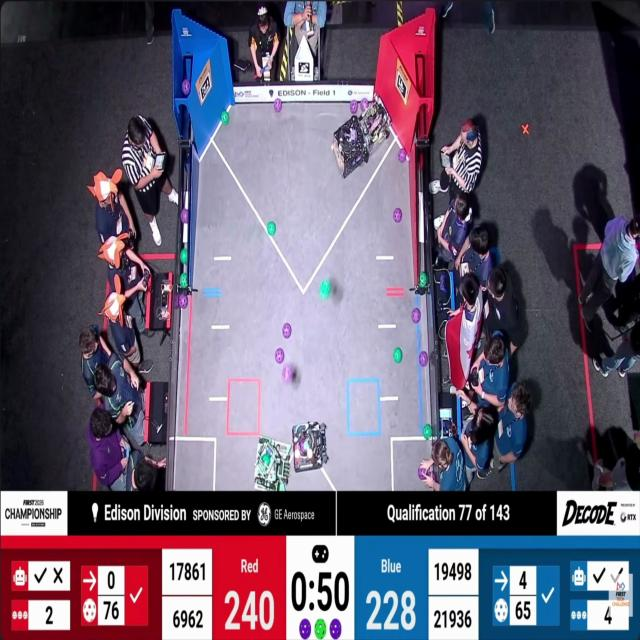artifact_green: (315, 619, 326, 639), (320, 280, 331, 299), (178, 294, 188, 308), (180, 248, 188, 265), (180, 273, 188, 288), (181, 208, 189, 223), (423, 424, 431, 439), (394, 348, 402, 363), (221, 111, 229, 125), (268, 222, 276, 236), (420, 272, 427, 287), (262, 454, 270, 465)
artifact_purple: (299, 619, 311, 639), (330, 619, 341, 639), (418, 467, 432, 480), (283, 365, 292, 383), (282, 322, 292, 338), (275, 348, 284, 364), (182, 79, 190, 96), (419, 352, 428, 367), (412, 308, 421, 323), (440, 274, 447, 293), (179, 294, 188, 308), (181, 208, 189, 223), (418, 467, 427, 480), (394, 208, 402, 222), (350, 100, 358, 114), (274, 99, 282, 112), (398, 149, 406, 162), (361, 99, 369, 111), (174, 295, 179, 308)
